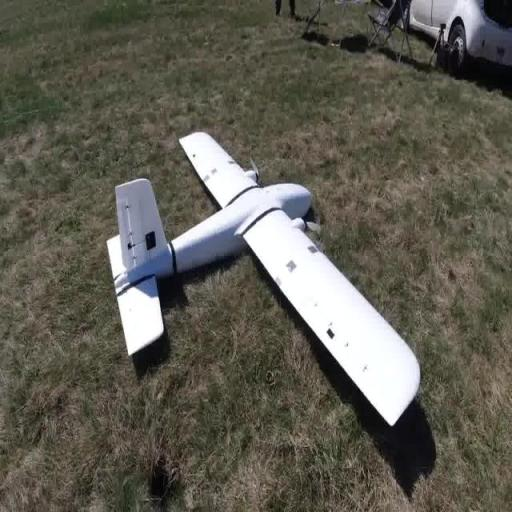uav: (101, 126, 428, 436)
